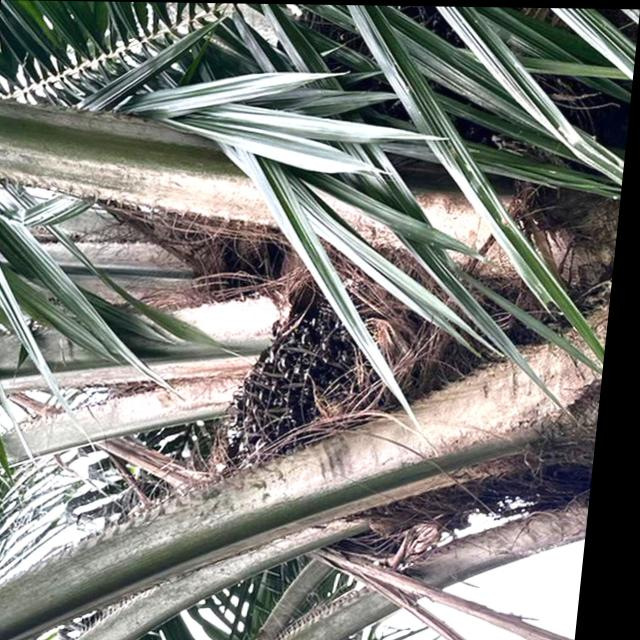unripe: (224, 256, 467, 478)
